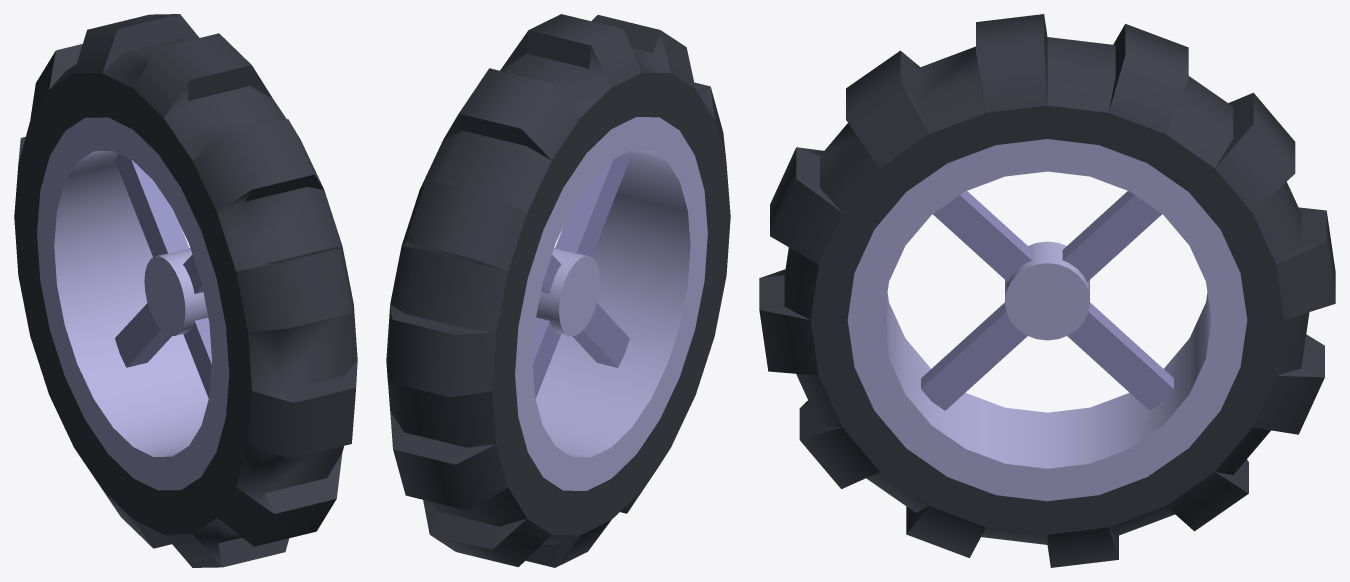
The model's file is motorcycle_Wheel_Solo.fbx.
3 views of the same model, side by side, from view 1: azimuth 30°, elevation 25°; view 2: azimuth 150°, elevation 25°; view 3: azimuth 270°, elevation 25° (orthographic). The views are drawn at different scales.
Visible parts, largest first — view 1: wheel_cycleDirt; view 2: wheel_cycleDirt; view 3: wheel_cycleDirt.
Boxes of the visible parts, bbox=[...] form: wheel_cycleDirt: bbox=[14, 14, 357, 567]; wheel_cycleDirt: bbox=[386, 14, 730, 567]; wheel_cycleDirt: bbox=[759, 14, 1335, 567].
Bounding box in the file's own units: 1.56 × 6.76 × 6.76.
